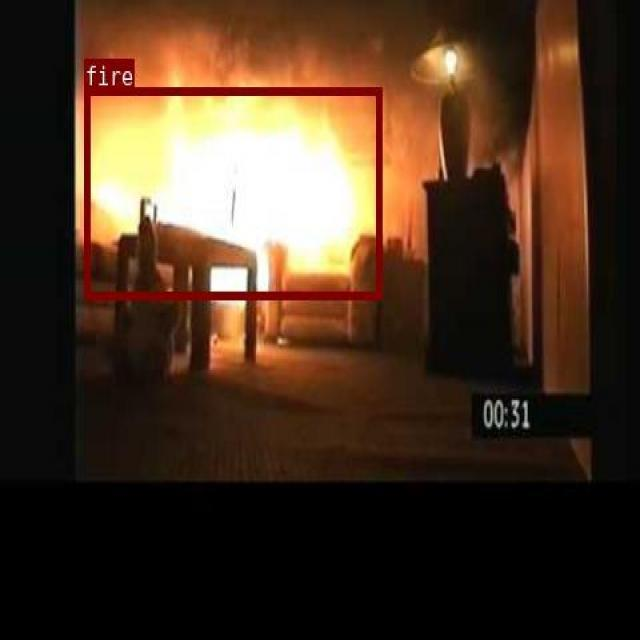fire: (83, 86, 380, 298)
